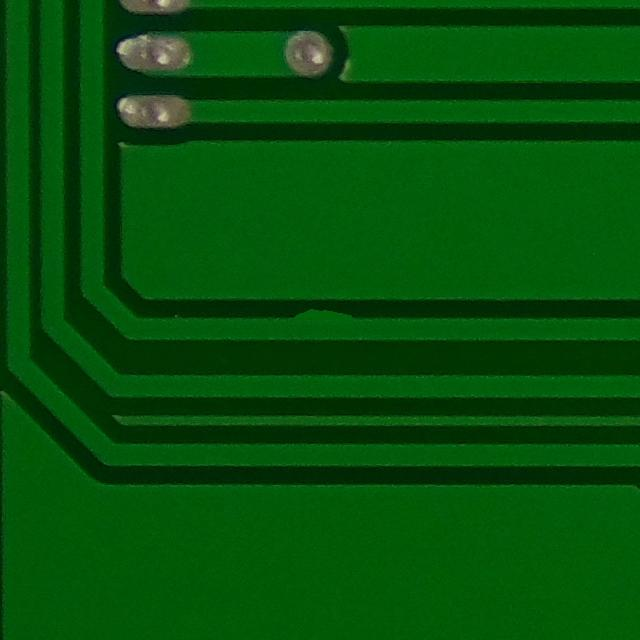spur: (273, 295, 367, 345)
